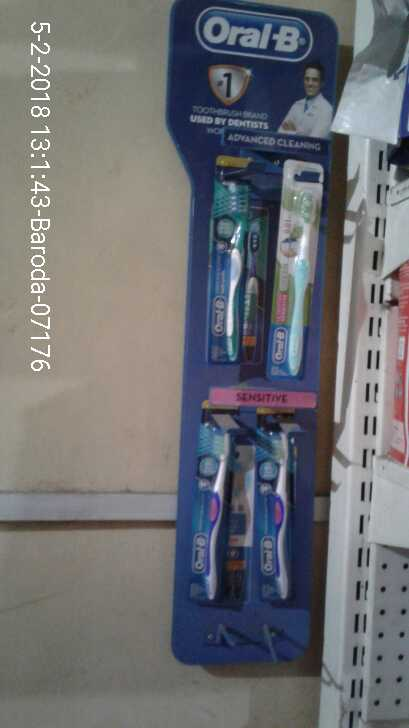oralb: (256, 417, 303, 606), (198, 418, 239, 608), (282, 181, 317, 389), (213, 173, 250, 362)
